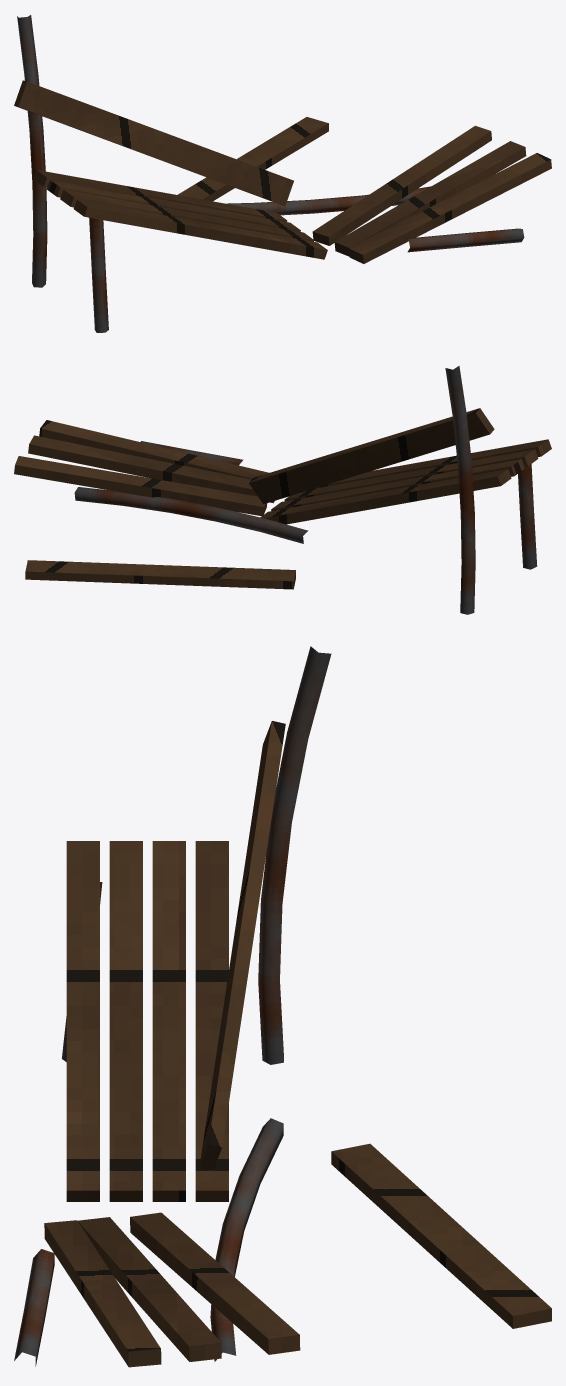
The model's file is park_bench_broken.glb.
3 renders of one model, top to bottom at view 1: azimuth 30°, elevation 25°; view 2: azimuth 150°, elevation 25°; view 3: azimuth 270°, elevation 25°, orthographic. The views are drawn at different scales.
Parts seen in each view (by area): view 1: detail; view 2: detail; view 3: detail.
Part boxes in pixels (x1,y1,x2,y2): detail: (14,15,551,332); detail: (14,366,551,614); detail: (14,646,551,1367).
Size of the model in its own units: 1.9 by 0.958 by 1.13.
2 materials, 2 textured.
